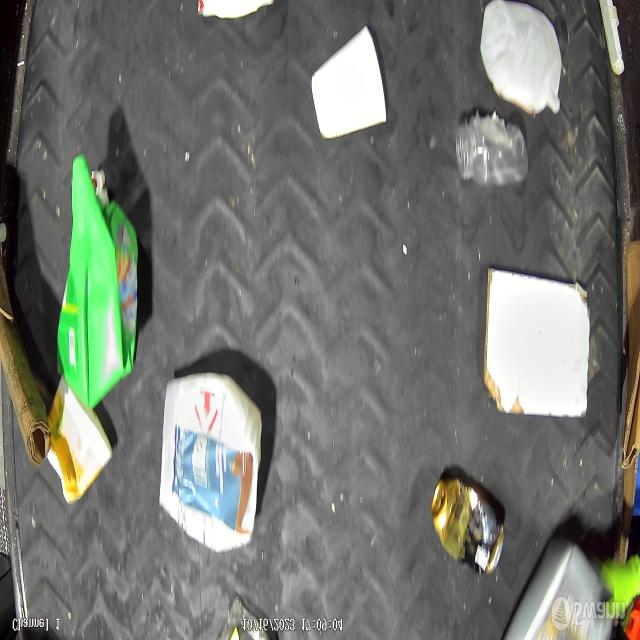can: (432, 480, 503, 570)
milk_jug: (484, 6, 574, 122)
non_white_jug: (59, 150, 138, 412), (502, 535, 610, 640)
plastic_bottle: (454, 128, 532, 190)
